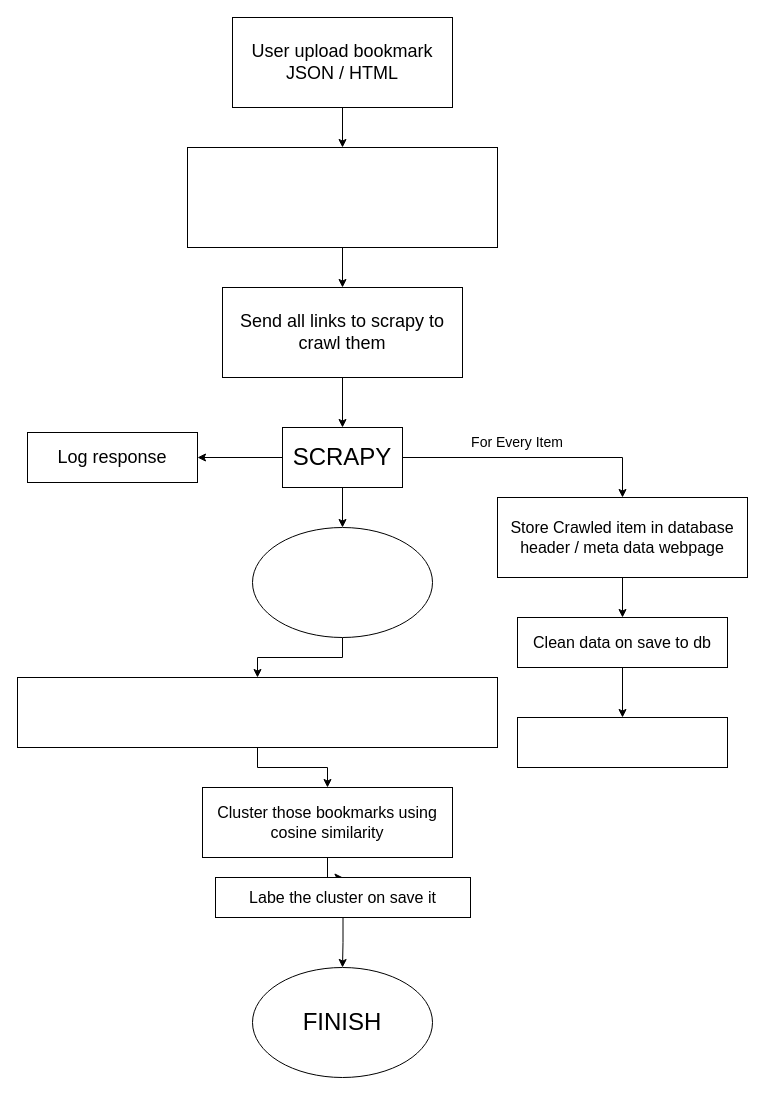
The diagram is 765 pixels wide and 1095 high, and some of its shapes have lost their labels. Each missing label, with the box of its shape:
extract links / titles / other attributes Store them in bookmark table: (186, 146, 498, 248)
FINISH SPIDER: (252, 526, 432, 638)
Send all bookmarks which weighted and cleaned to the Cluster Manager: (16, 676, 498, 748)
Weight data and store it: (516, 716, 728, 768)
